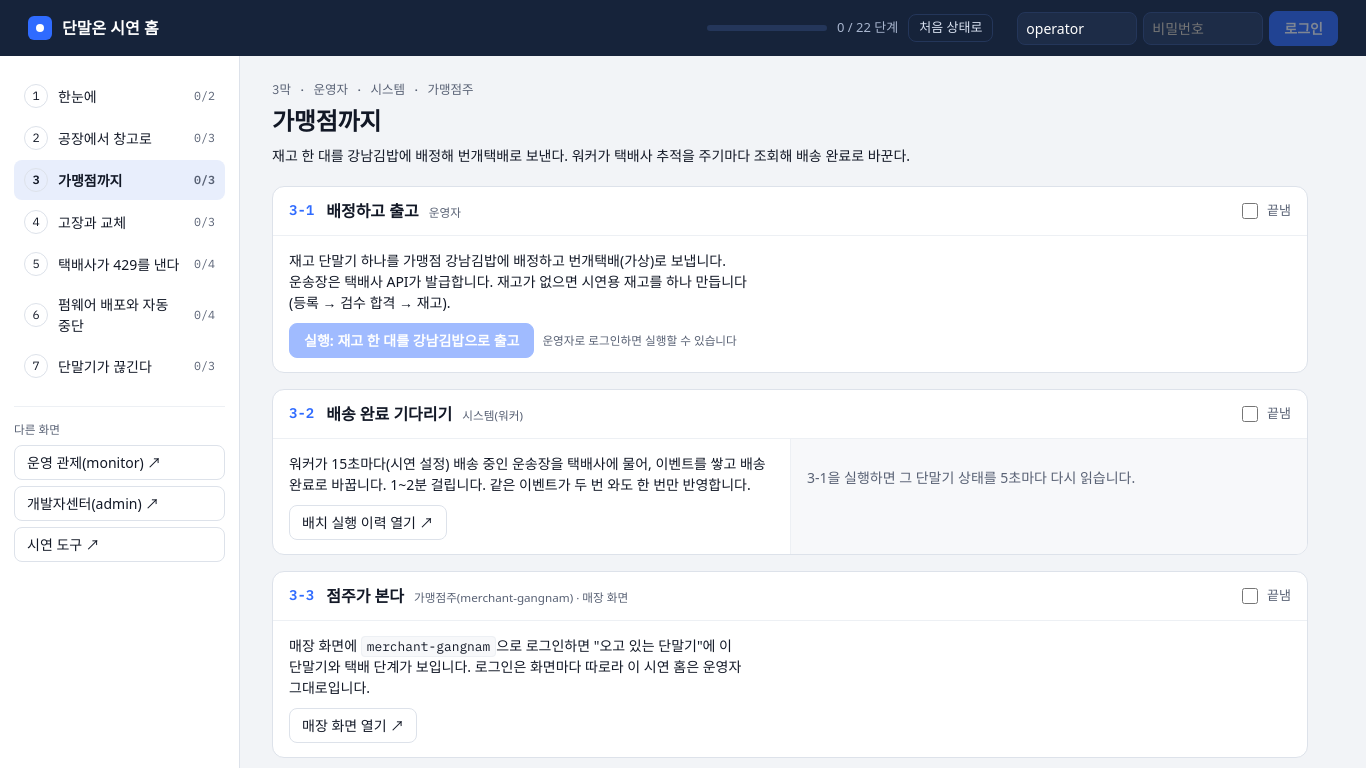
Test: 시연 홈 틀 (보강 10, decisions/0092) › 운영자로 로그인하면 이름이 보이고 실행할 수 있다
This screenshot has width=1366, height=768.
Expected: the button "실행: 재고 한 대를 강남김밥으로 출고" is disabled, left=289, top=323, right=534, bottom=358
Expected: the text "운영자로 로그인하면 실행할 수 있습니다" is shown, left=542, top=332, right=737, bottom=349
Type "pw" into the password field with placeholder "비밀번호" at (1203, 28), box left=1143, top=12, right=1263, bottom=44
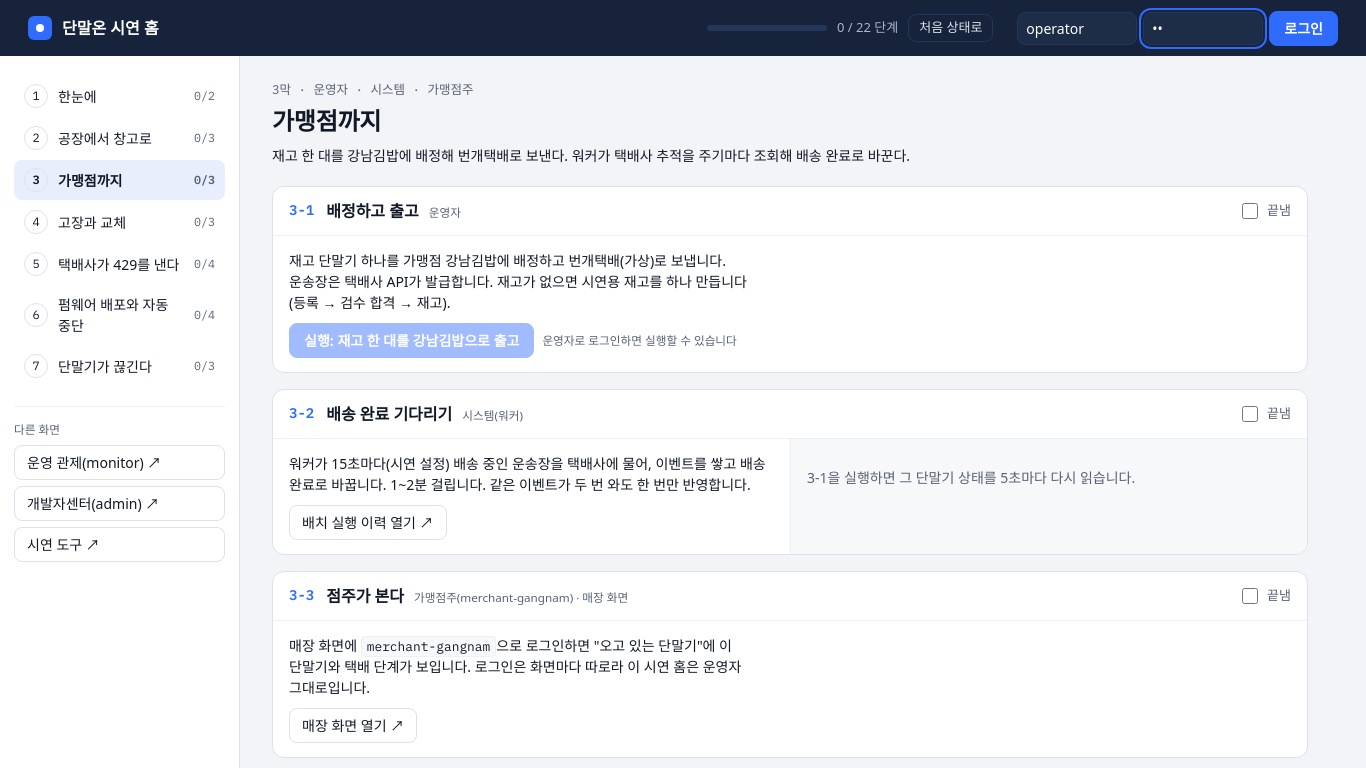
Click the button "로그인" at (1304, 28), box left=1269, top=10, right=1338, bottom=46
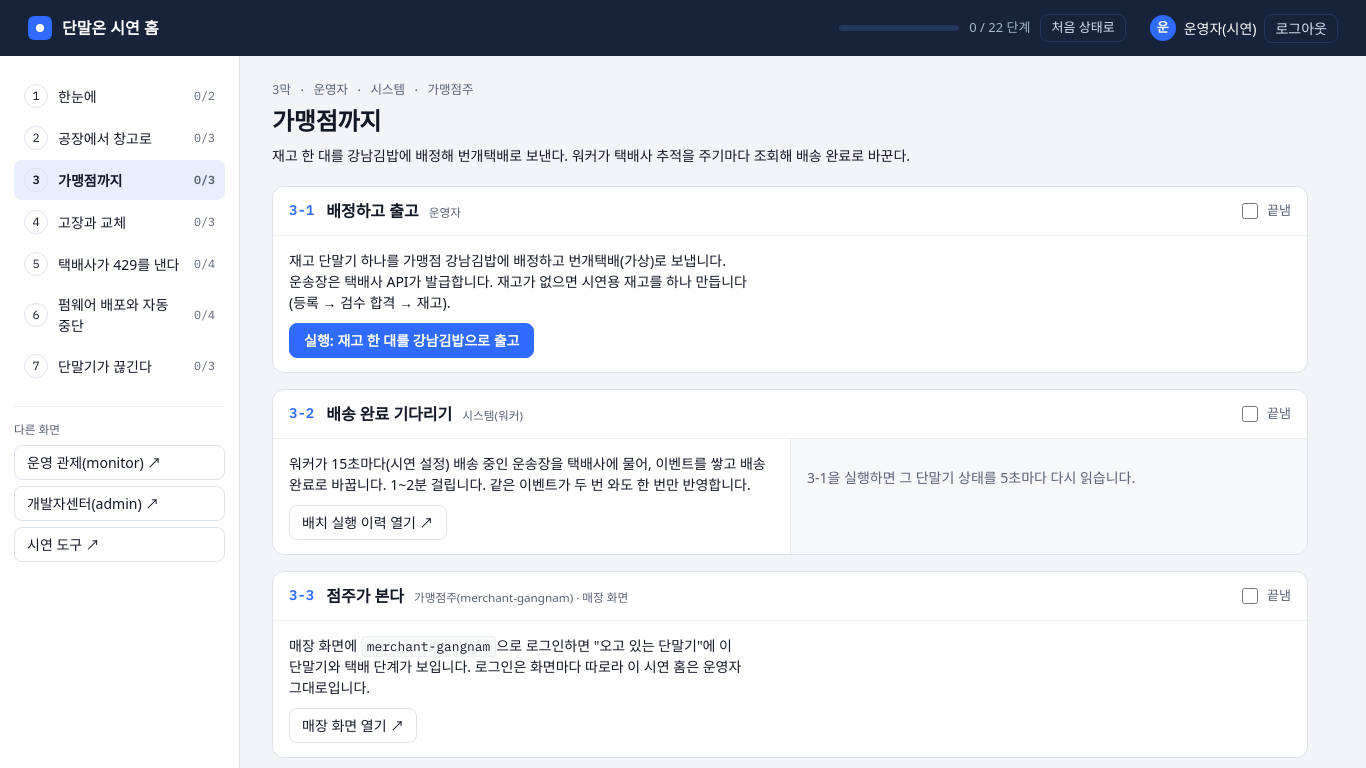
Now the text "운영자(시연)" is shown, box left=1184, top=18, right=1256, bottom=38
Now the button "실행: 재고 한 대를 강남김밥으로 출고" is enabled, box left=289, top=323, right=534, bottom=358
